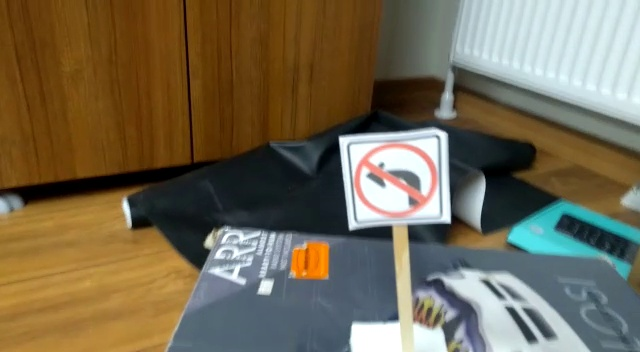sola_donulmez: (351, 129, 440, 225)
